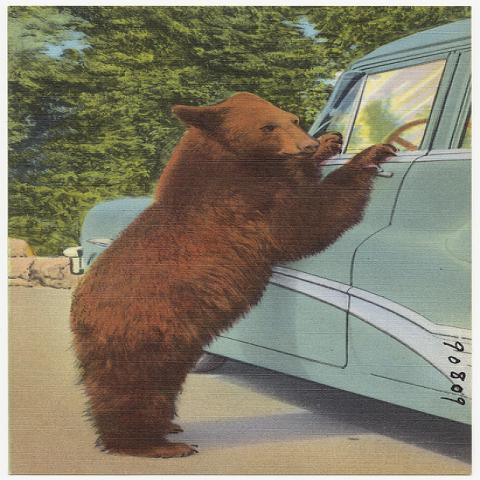car: (68, 15, 473, 427)
